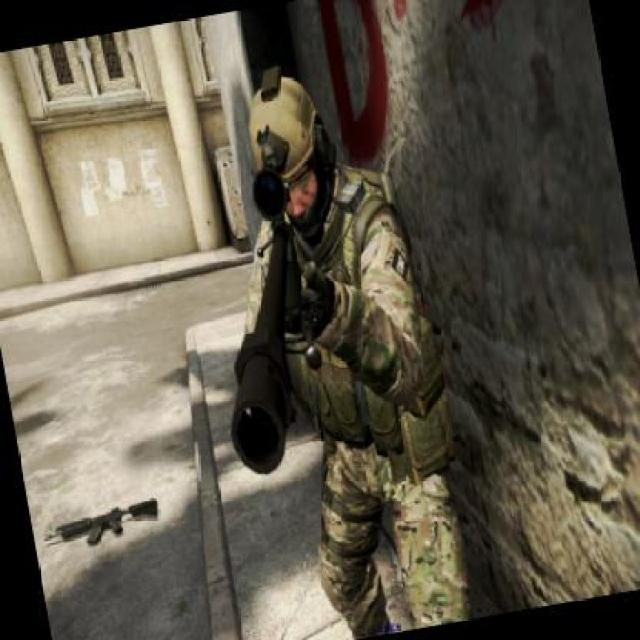MIL_Pax: (196, 51, 490, 638)
